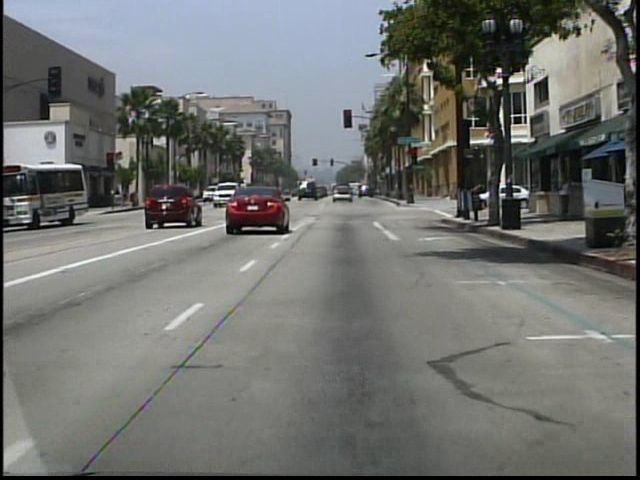person: (554, 169, 575, 222)
